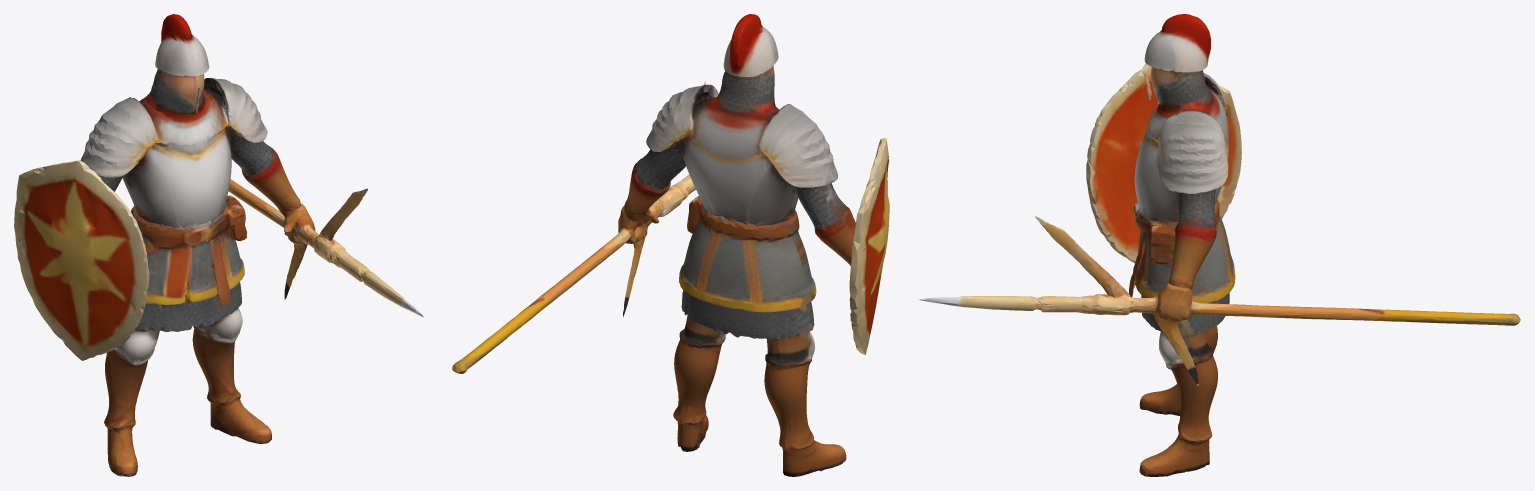
The model's file is human_warrior.glb.
3 renders of one model, left to right at view 1: azimuth 30°, elevation 25°; view 2: azimuth 150°, elevation 25°; view 3: azimuth 270°, elevation 25°, orthographic. The views are drawn at different scales.
Parts seen in each view (by area): view 1: human_warrior; view 2: human_warrior; view 3: human_warrior.
Part boxes in pixels (x1=…): human_warrior: x1=14, y1=14, x2=423, y2=476; human_warrior: x1=452, y1=14, x2=889, y2=476; human_warrior: x1=918, y1=14, x2=1520, y2=476.
Bounding box in the file's own units: 0.9439 × 1.46 × 1.87.
1 material, 1 textured.
